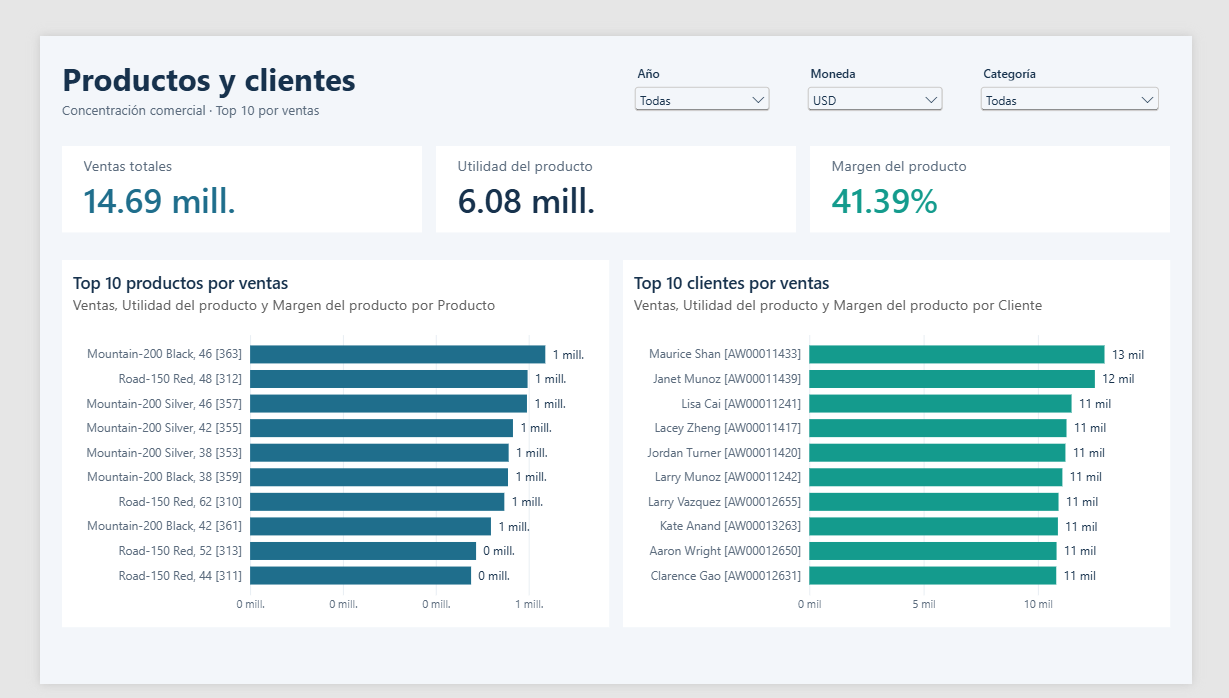

This screenshot's page, from the dashboard's own definition file:
{"tool":"powerbi","page":{"name":"Productos y clientes","canvas":[1280,720],"ordinal":1},"visuals":[{"type":"textbox","box":[24,16,592,24],"z":10},{"type":"textbox","box":[24,48,600,48],"z":11},{"type":"textbox","box":[24,104,600,30],"z":12},{"type":"actionButton","box":[880,16,136,44],"z":20},{"type":"actionButton","box":[1032,16,224,44],"z":21},{"type":"cardVisual","fields":{"Data":["Ventas Internet.Ventas"]},"box":[24,160,400,96],"z":124},{"type":"cardVisual","fields":{"Data":["Measures.UtilidadProducto"]},"box":[440,160,400,96],"z":540},{"type":"slicer","fields":{"Values":["Fecha.Calendario.Anio"]},"box":[648,64,176,80],"z":678},{"type":"slicer","fields":{"Values":["Moneda.CodigoMoneda"]},"box":[840,64,176,80],"z":870},{"type":"cardVisual","fields":{"Data":["Measures.MargenProducto"]},"box":[856,160,400,96],"z":956},{"type":"slicer","fields":{"Values":["Producto.Categoria"]},"box":[1032,64,224,80],"z":1062},{"type":"barChart","title":"Top 10 productos por ventas","fields":{"Category":["Producto.Producto"],"Y":["Ventas Internet.Ventas"]},"box":[24,280,608,408],"z":2124},{"type":"barChart","title":"Top 10 clientes por ventas","fields":{"Category":["Cliente.Cliente"],"Y":["Ventas Internet.Ventas"]},"box":[648,280,608,408],"z":2748},{"type":"textbox","box":[24,696,1232,24],"z":9500}]}

Visuals, with their boxes in screenshot pixels (x1, y1, x2, y2), scaled from the page's 1280x720 canvas onto the 1229x698 screenshot:
textbox: Rect(23, 16, 591, 39)
textbox: Rect(23, 47, 599, 93)
textbox: Rect(23, 101, 599, 130)
actionButton: Rect(845, 16, 976, 58)
actionButton: Rect(991, 16, 1206, 58)
cardVisual - Ventas Internet.Ventas: Rect(23, 155, 407, 248)
cardVisual - Measures.UtilidadProducto: Rect(422, 155, 807, 248)
slicer - Fecha.Calendario.Anio: Rect(622, 62, 791, 140)
slicer - Moneda.CodigoMoneda: Rect(807, 62, 976, 140)
cardVisual - Measures.MargenProducto: Rect(822, 155, 1206, 248)
slicer - Producto.Categoria: Rect(991, 62, 1206, 140)
"Top 10 productos por ventas" barChart: Rect(23, 271, 607, 667)
"Top 10 clientes por ventas" barChart: Rect(622, 271, 1206, 667)
textbox: Rect(23, 675, 1206, 697)
